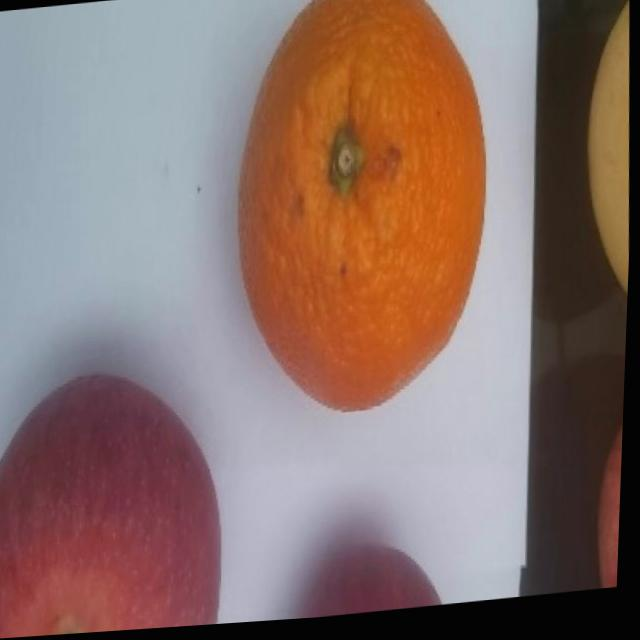Apple: (0, 364, 235, 640), (296, 545, 450, 623), (596, 422, 627, 597)
Orange: (225, 0, 503, 429)
